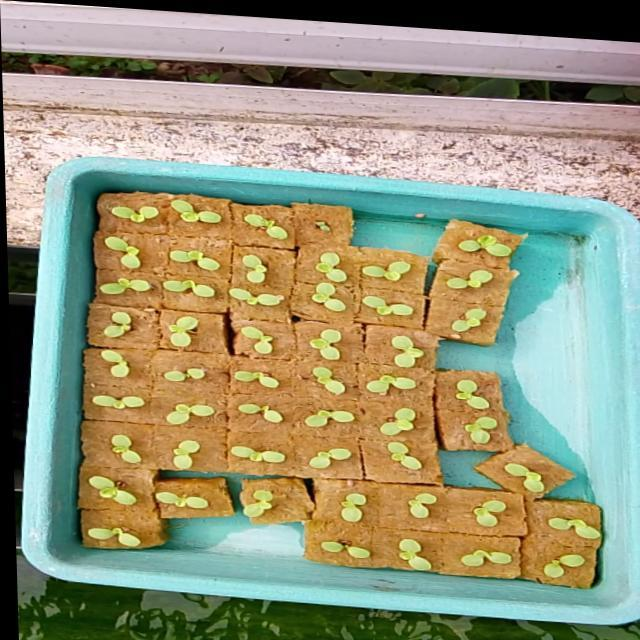Baby: (471, 445, 529, 488), (71, 428, 134, 464), (514, 543, 578, 575), (507, 510, 560, 542), (345, 363, 394, 394), (357, 400, 411, 428), (333, 282, 387, 309), (205, 315, 250, 347), (57, 295, 98, 329), (127, 351, 188, 373), (135, 185, 187, 210), (211, 200, 257, 228), (433, 224, 488, 247), (443, 408, 479, 443), (68, 224, 104, 258), (60, 265, 120, 285), (441, 541, 501, 560), (209, 395, 259, 417), (365, 327, 398, 360), (134, 305, 167, 338), (365, 434, 400, 465), (197, 277, 254, 296), (377, 532, 410, 564), (283, 272, 317, 303), (138, 397, 188, 418), (287, 358, 321, 388), (282, 321, 313, 353), (129, 269, 183, 287), (287, 243, 318, 274), (280, 402, 330, 421), (336, 248, 384, 267), (421, 261, 468, 280), (207, 362, 253, 381), (69, 341, 100, 369), (450, 492, 482, 519), (427, 299, 461, 324), (75, 193, 124, 210), (145, 434, 173, 463), (317, 487, 344, 516), (433, 371, 467, 394), (210, 242, 236, 272), (61, 389, 115, 403), (387, 487, 414, 512), (288, 441, 319, 462), (137, 239, 177, 254)
